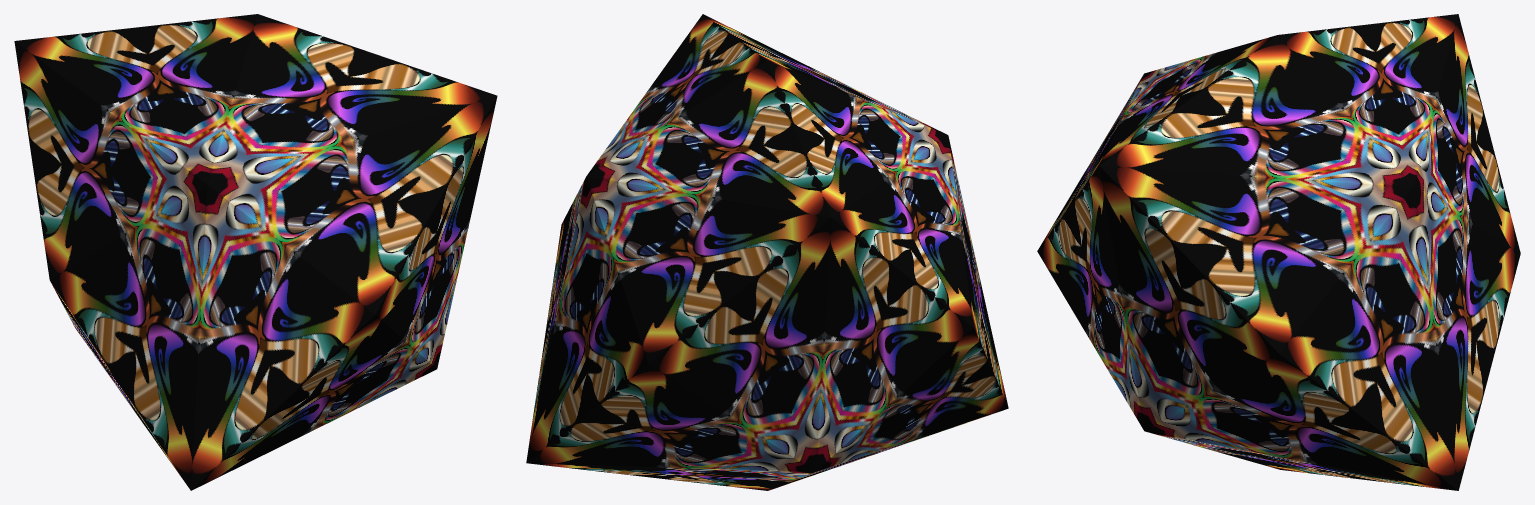
The model's file is HexakisTetrahedron12.obj.
The picture shows the model from 3 angles, left to right: view 1: azimuth 30°, elevation 25°; view 2: azimuth 150°, elevation 25°; view 3: azimuth 270°, elevation 25°; orthographic projection.
Bounding box in the file's own units: 9.9 × 9.85 × 9.9.
1 material, 1 textured.
